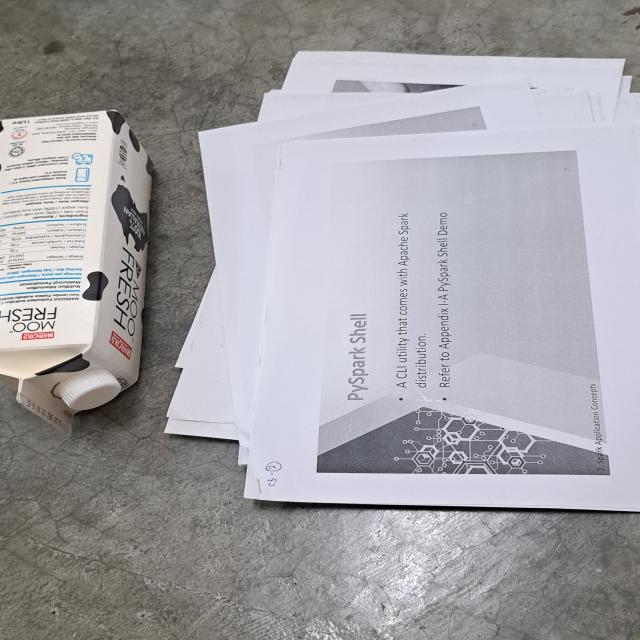drink carton: (0, 108, 159, 436), (59, 370, 121, 411)
paper: (165, 51, 640, 514)
